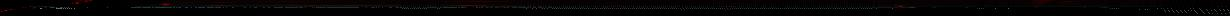Blue cone: (8, 9, 14, 10), (22, 7, 27, 8)
Yellow cone: (159, 3, 171, 6), (895, 5, 905, 7)
